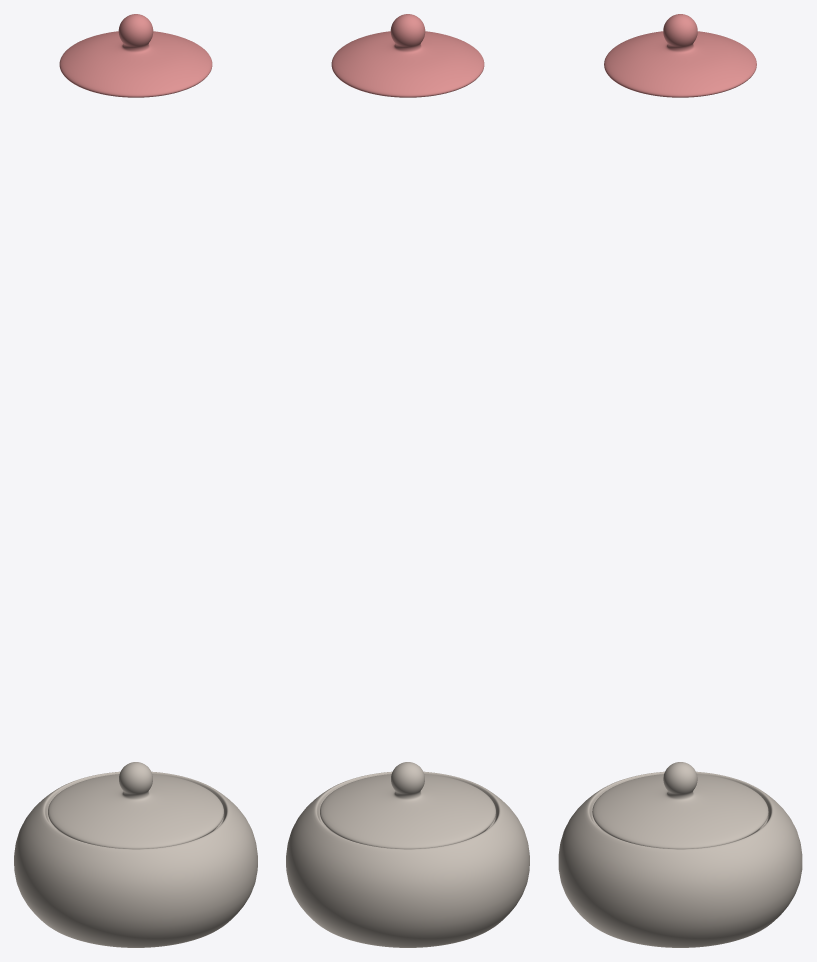
The model's file is single-products-ghandan.glb.
3 views of the same model, side by side, from view 1: azimuth 30°, elevation 25°; view 2: azimuth 150°, elevation 25°; view 3: azimuth 270°, elevation 25° (orthographic).
Parts seen in each view (by area): view 1: Circle, Sphere.001, Sphere.015; view 2: Circle, Sphere.001, Sphere.015; view 3: Circle, Sphere.001, Sphere.015.
Boxes of the visible parts, box(x1,y1,x2,y2) form: Circle: box(14, 771, 257, 947); Sphere.001: box(48, 762, 223, 849); Sphere.015: box(59, 14, 212, 97); Circle: box(286, 771, 529, 947); Sphere.001: box(320, 762, 495, 849); Sphere.015: box(331, 14, 484, 97); Circle: box(558, 771, 802, 947); Sphere.001: box(592, 762, 768, 849); Sphere.015: box(604, 14, 756, 97).
Bounding box in the file's own units: 0.1131 × 0.4563 × 0.1131.
